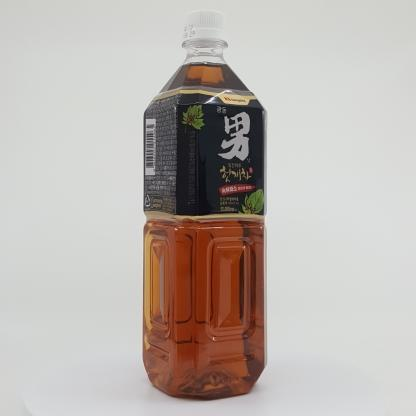----------1L: (142, 9, 268, 400)
